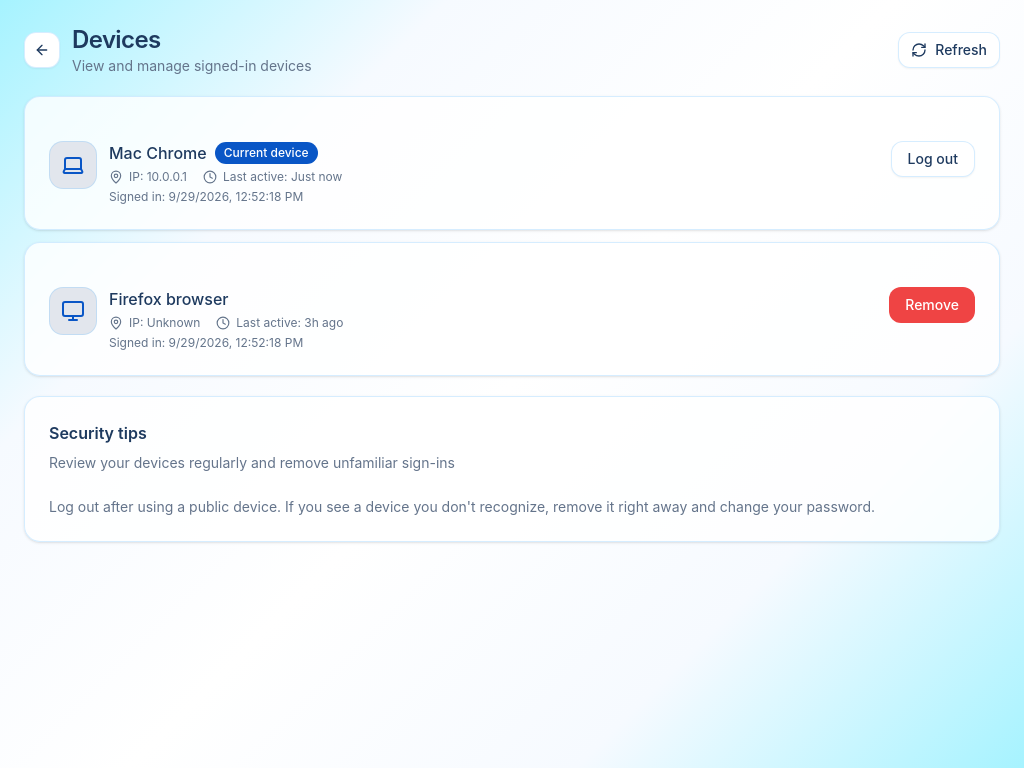
Test: 设备管理页（en-US） › 列表、徽章、相对时间、按钮与确认框都是英文
This screenshot has width=1024, height=768.
Check: the text "Current device" is shown, box [215,142,318,164]
Check: the text "Firefox browser" is shown, box [109,287,228,311]
Click the button "Log out".
click(933, 159)  # box [891,141,975,177]
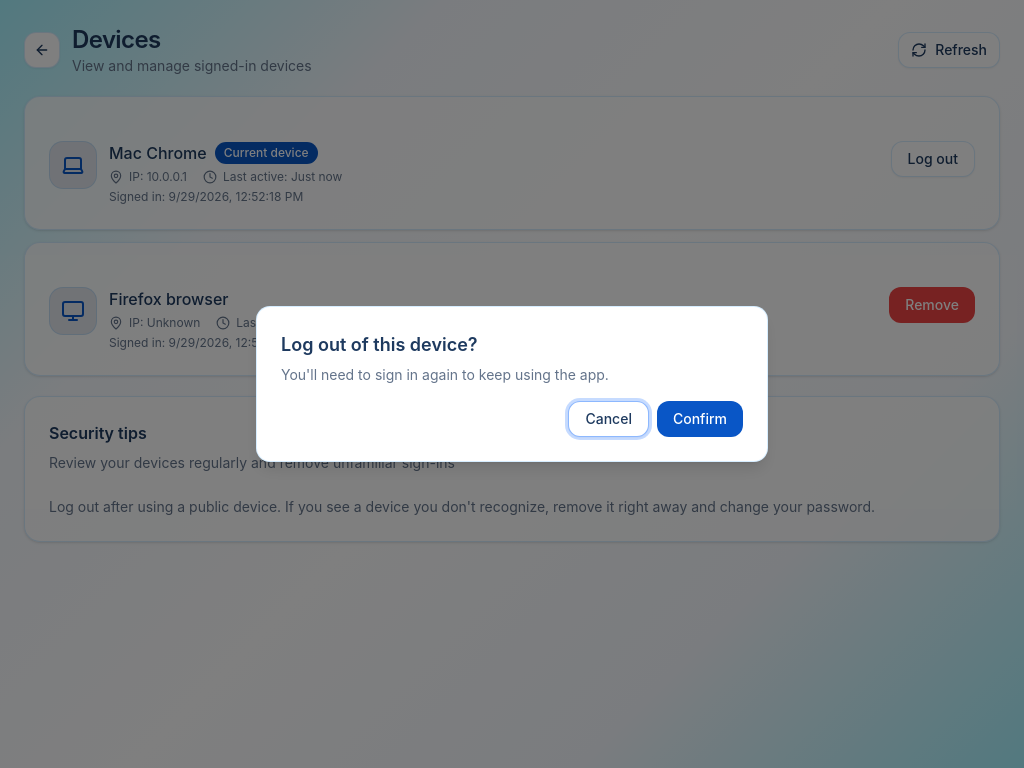
Check: the heading "Log out of this device?" is shown, box [281,331,478,359]
Check: the button "Confirm" is shown, box [657,401,743,437]
Check: the button "Cancel" is shown, box [568,401,649,437]
